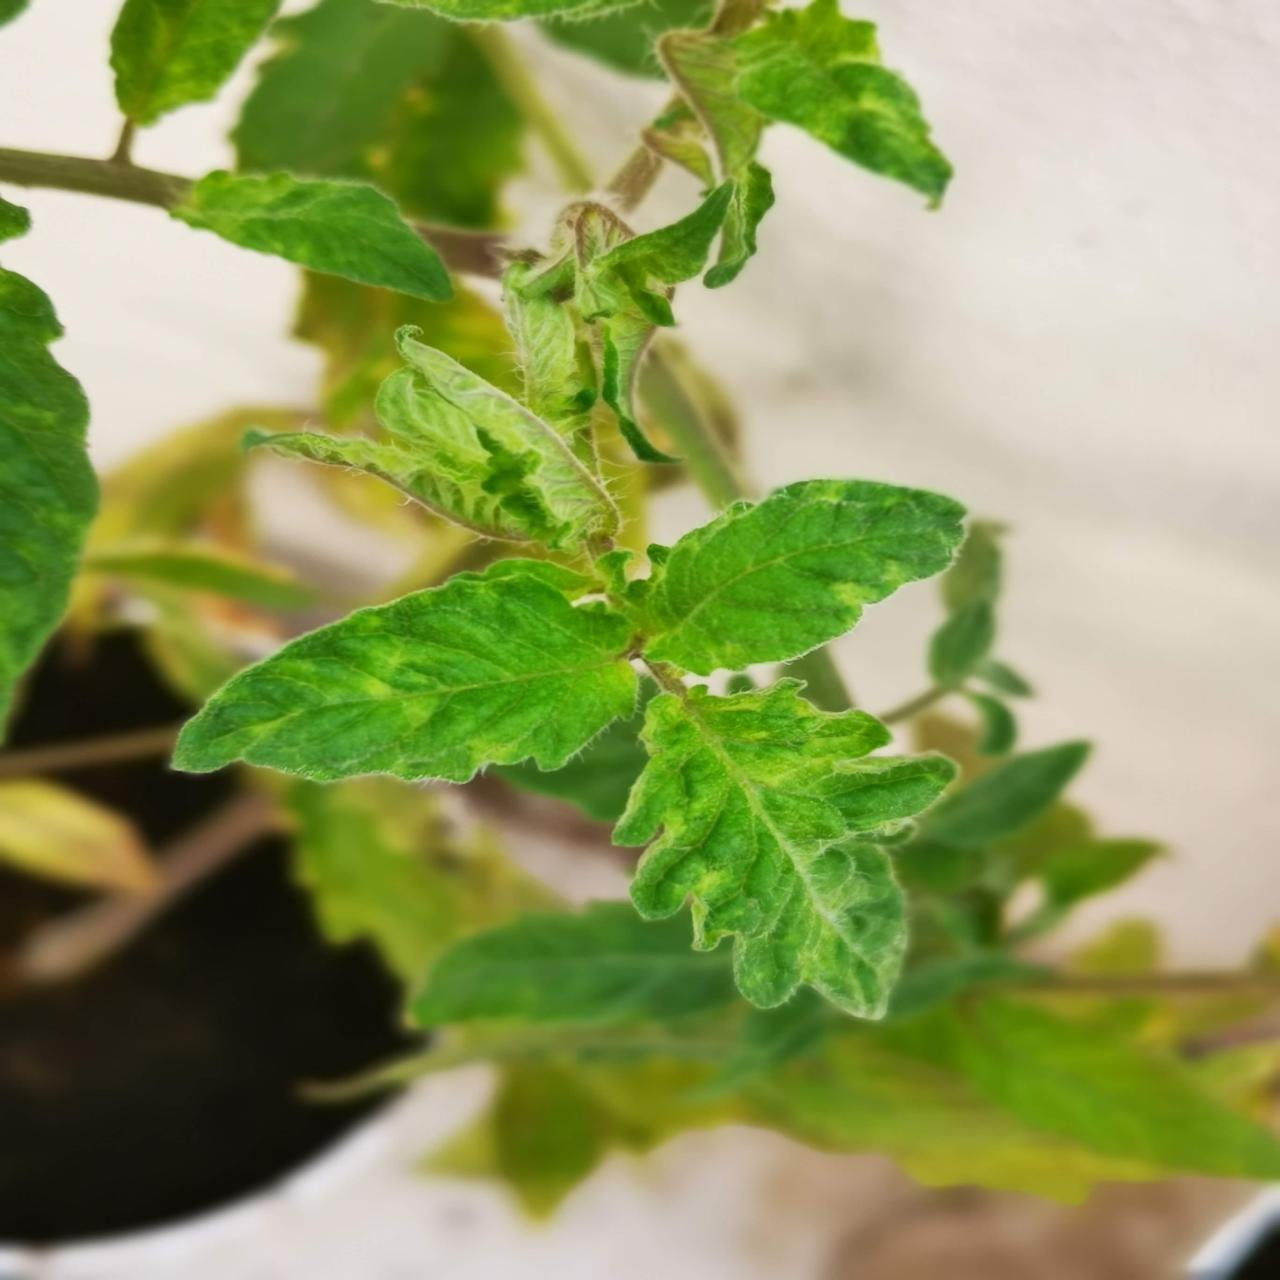T_L_R: (612, 678, 956, 1022), (173, 572, 641, 785), (594, 481, 969, 676)
